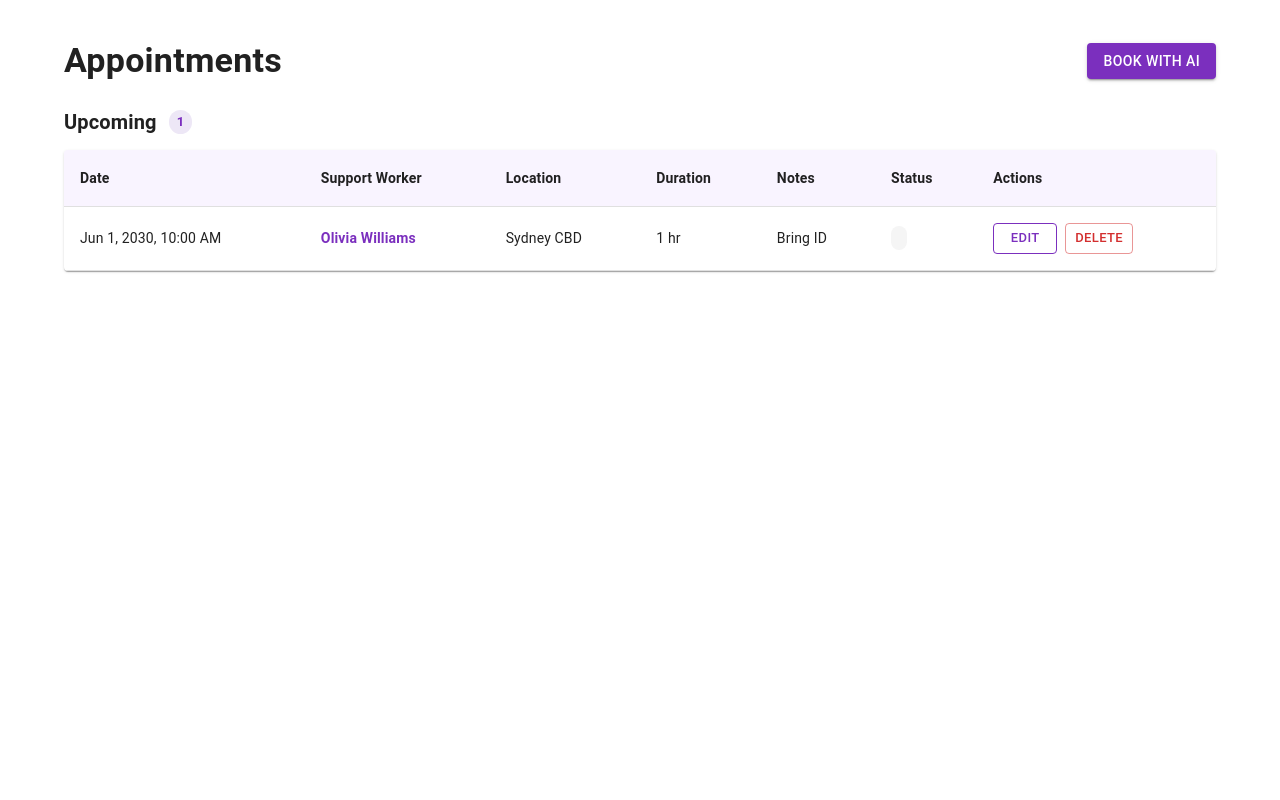
it: AppointmentList › as a client › opens delete confirmation dialog
Click the button "Delete": point(1099, 238) [1065, 223, 1133, 254]
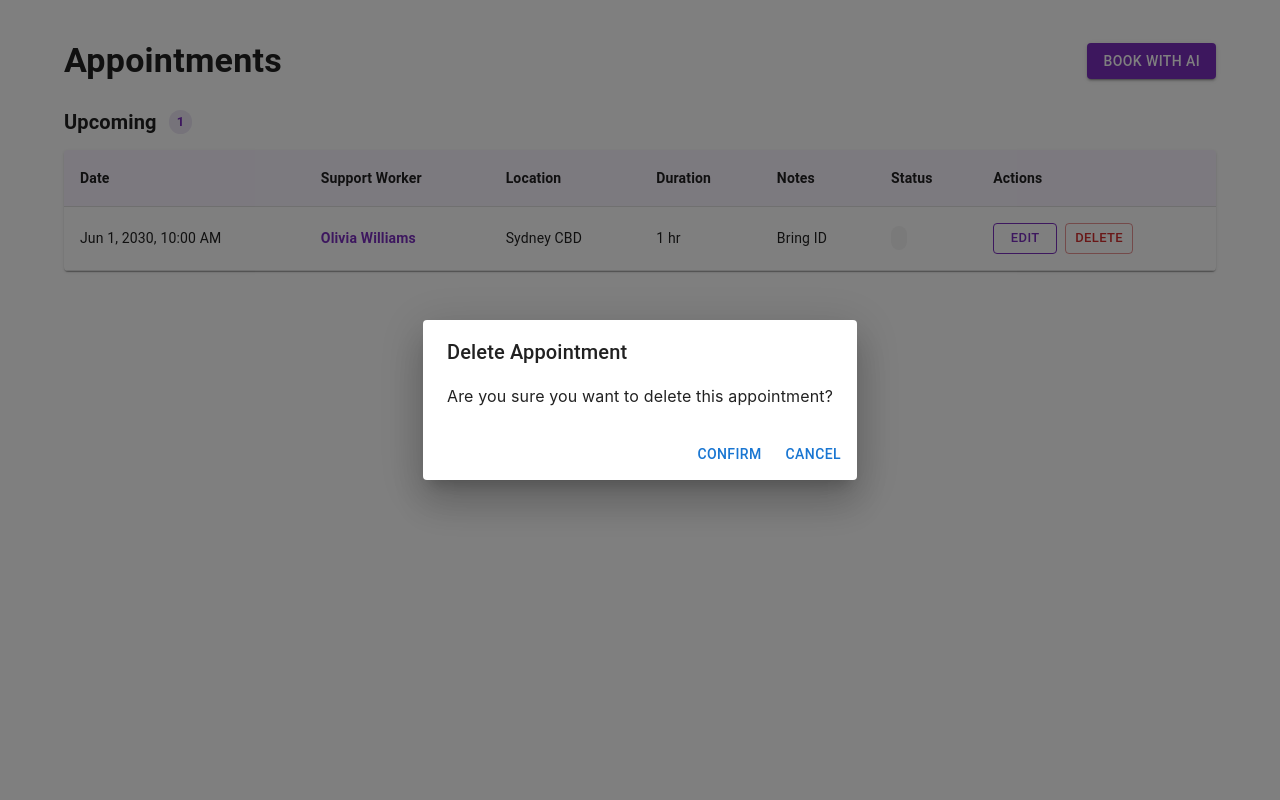
Now the text "Are you sure you want to delete this appointment?" is shown, box [447, 386, 833, 406]
